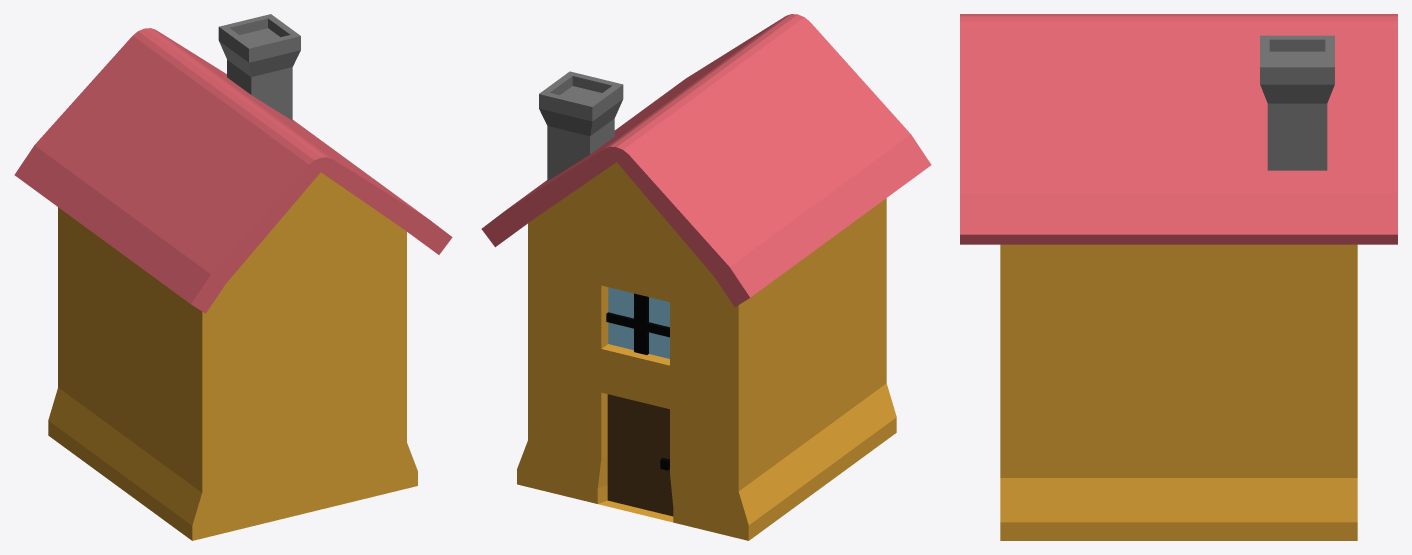
Rendered from house1.fbx.
3 views of the same model, side by side, from view 1: azimuth 30°, elevation 25°; view 2: azimuth 150°, elevation 25°; view 3: azimuth 270°, elevation 25° (orthographic). The views are drawn at different scales.
Visible parts, largest first — view 1: House, Roof, Smoke pipe; view 2: House, Roof, Smoke pipe; view 3: House, Roof, Smoke pipe.
Part boxes in pixels (x1,y1,x2,y2): House: (48,172,417,540); Roof: (14,28,452,313); Smoke pipe: (218,14,300,120); House: (517,162,896,540); Roof: (481,14,931,307); Smoke pipe: (539,71,623,180); House: (1000,244,1357,540); Roof: (960,14,1397,244); Smoke pipe: (1260,35,1334,170).
Bounding box in the file's own units: 1259 × 1729 × 1470.
